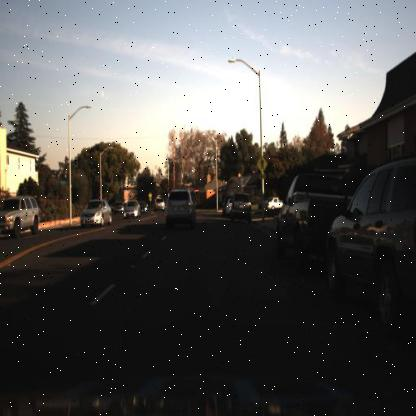car: (326, 156, 415, 337), (277, 172, 354, 270), (0, 196, 40, 237), (165, 186, 197, 226), (79, 196, 113, 226), (230, 191, 250, 227), (121, 199, 141, 220), (263, 196, 284, 212), (140, 196, 150, 218), (154, 197, 164, 213)
